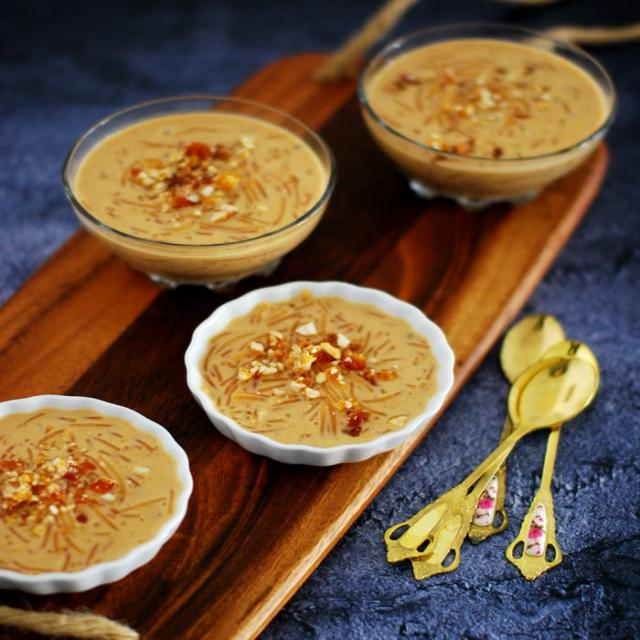shavige payasa: (181, 268, 466, 464), (53, 91, 342, 280), (359, 18, 633, 192), (0, 392, 190, 594)
